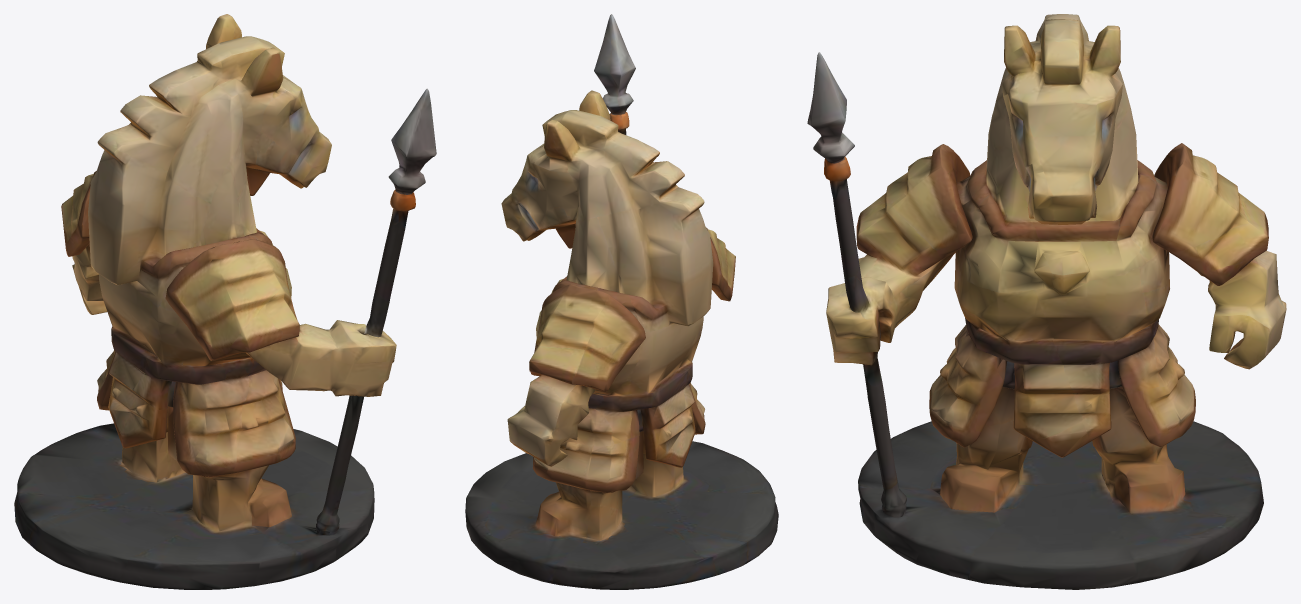
File: horse.glb
3 renders of one model, left to right at view 1: azimuth 30°, elevation 25°; view 2: azimuth 150°, elevation 25°; view 3: azimuth 270°, elevation 25°, orthographic. The views are drawn at different scales.
Visible parts, largest first — view 1: tripo_node_16fe81af-3ba9-4692-94c7-744052f8e74a; view 2: tripo_node_16fe81af-3ba9-4692-94c7-744052f8e74a; view 3: tripo_node_16fe81af-3ba9-4692-94c7-744052f8e74a.
Boxes of the visible parts, box(x1,y1,x2,y2) form: tripo_node_16fe81af-3ba9-4692-94c7-744052f8e74a: box(14, 14, 436, 589); tripo_node_16fe81af-3ba9-4692-94c7-744052f8e74a: box(465, 14, 778, 589); tripo_node_16fe81af-3ba9-4692-94c7-744052f8e74a: box(807, 14, 1286, 589).
Bounding box in the file's own units: 0.6888 × 1 × 0.8319.
Materials: 1 (1 with a texture image).
